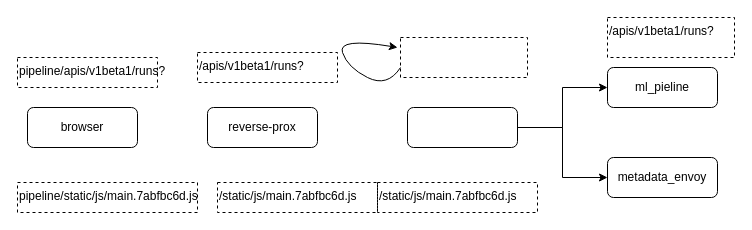
This 752x230 diagram has some shape labels left out. The box of each missing label's shape, as (x1, y1, x2, y2) in pixels:
/apis/v1beta1/runs? proxy to 3001: (400, 36, 528, 78)
node server: (406, 106, 518, 148)
